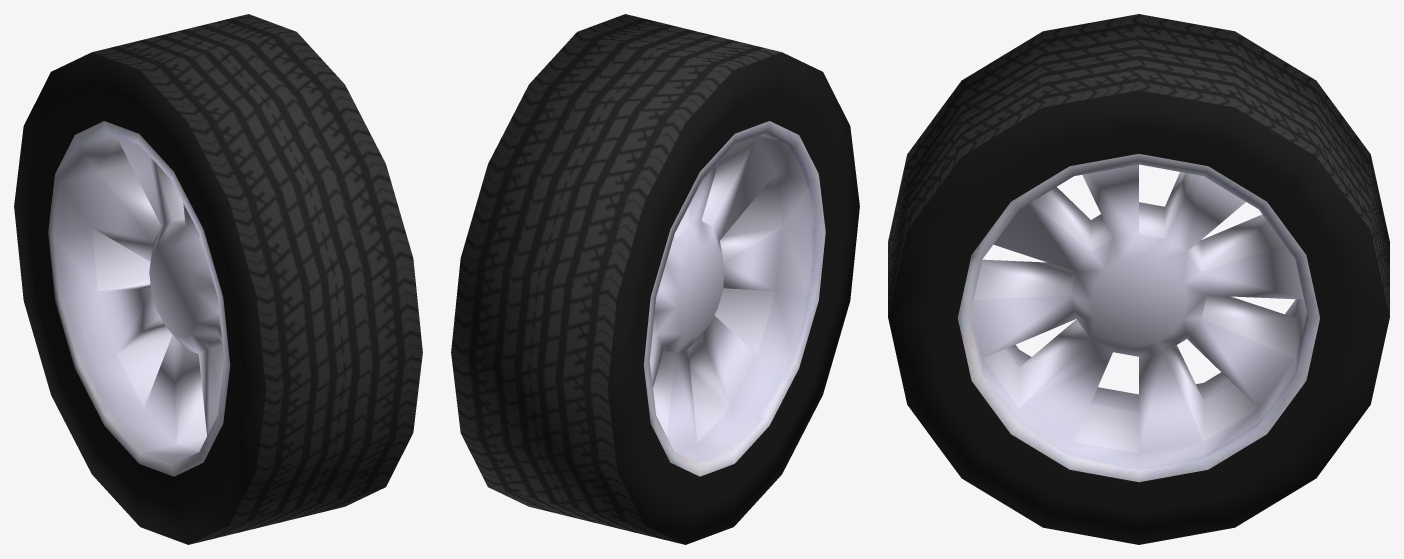
The model's file is futuristic_wheel.obj.
3 views of the same model, side by side, from view 1: azimuth 30°, elevation 25°; view 2: azimuth 150°, elevation 25°; view 3: azimuth 270°, elevation 25° (orthographic).
Visible parts, largest first — view 1: Cylinder_Cylinder.003; view 2: Cylinder_Cylinder.003; view 3: Cylinder_Cylinder.003.
Part boxes in pixels (x1,y1,x2,y2): Cylinder_Cylinder.003: (14, 14, 422, 544); Cylinder_Cylinder.003: (451, 14, 859, 544); Cylinder_Cylinder.003: (888, 14, 1389, 544).
Bounding box in the file's own units: 0.7576 × 2 × 2.
1 material, 1 textured.
